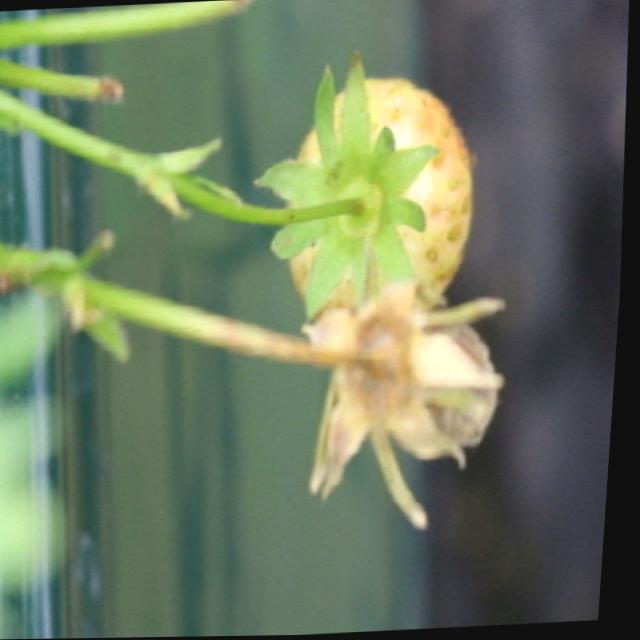Gray Mold: (228, 282, 513, 534)
